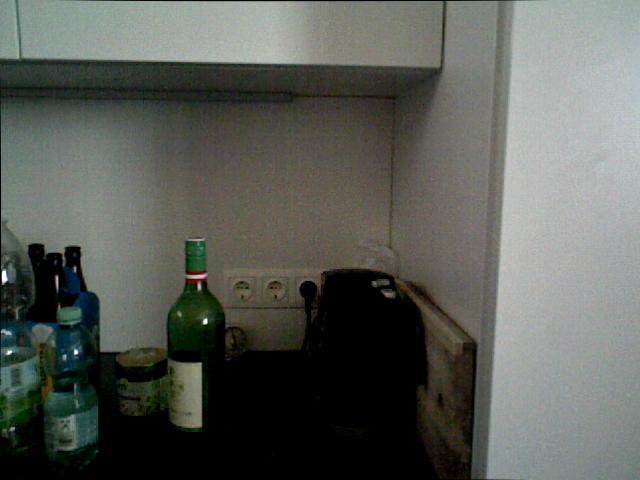bench: (166, 237, 226, 434), (2, 216, 43, 456), (42, 305, 100, 470), (38, 251, 65, 326), (27, 238, 49, 303), (63, 243, 85, 306)
giraffe: (223, 322, 253, 362)
hot dog: (469, 0, 639, 479)
